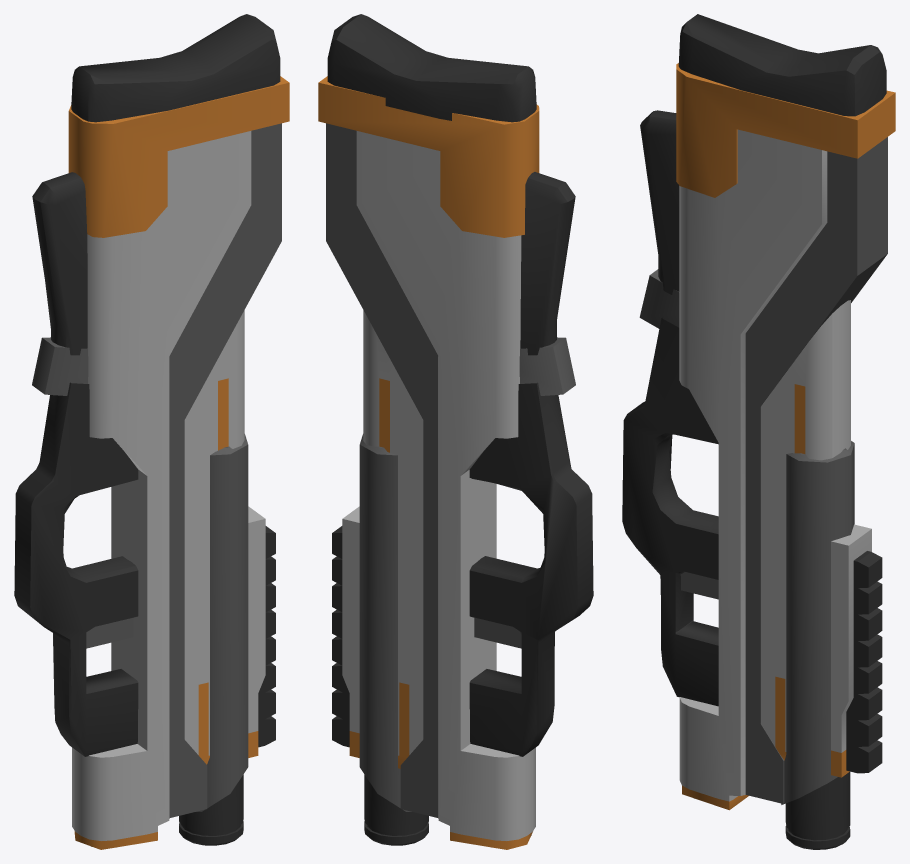
The model's file is qg-grenade-4-lod2.glb.
3 views of the same model, side by side, from view 1: azimuth 30°, elevation 25°; view 2: azimuth 150°, elevation 25°; view 3: azimuth 330°, elevation 25° (orthographic).
Visible parts, largest first — view 1: WeaponMesh_qg-grenade-4_Grenade_3; view 2: WeaponMesh_qg-grenade-4_Grenade_3; view 3: WeaponMesh_qg-grenade-4_Grenade_3.
Boxes of the visible parts, x1,y1,x2,y2 form: WeaponMesh_qg-grenade-4_Grenade_3: [14, 14, 289, 849]; WeaponMesh_qg-grenade-4_Grenade_3: [318, 14, 593, 849]; WeaponMesh_qg-grenade-4_Grenade_3: [622, 14, 895, 849].
Size of the model in its own units: 0.136 by 0.42 by 0.0362.
